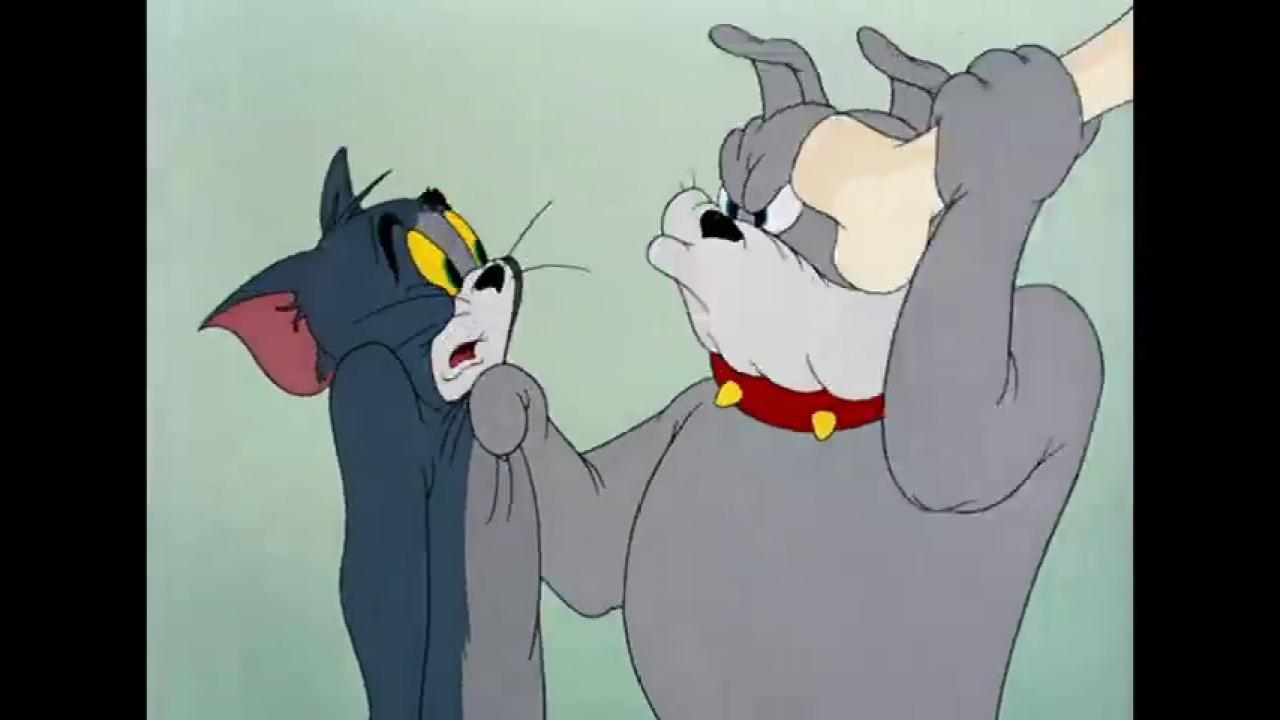Tom: (195, 141, 547, 720)
